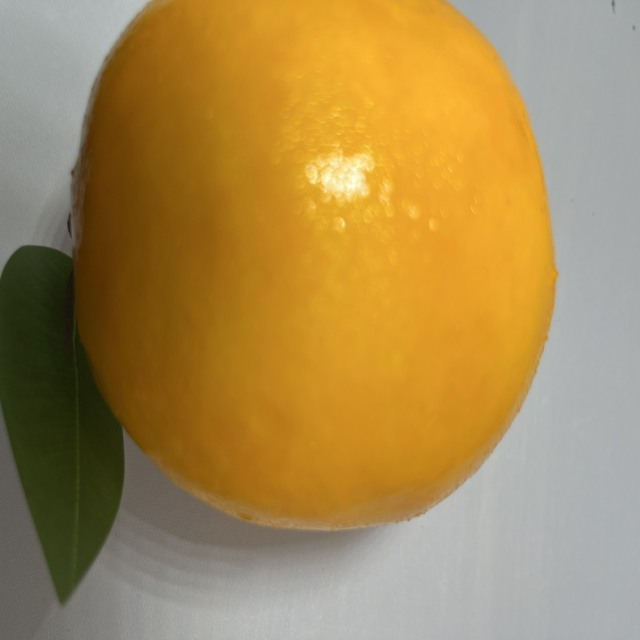Cam vang: (70, 0, 565, 546)
